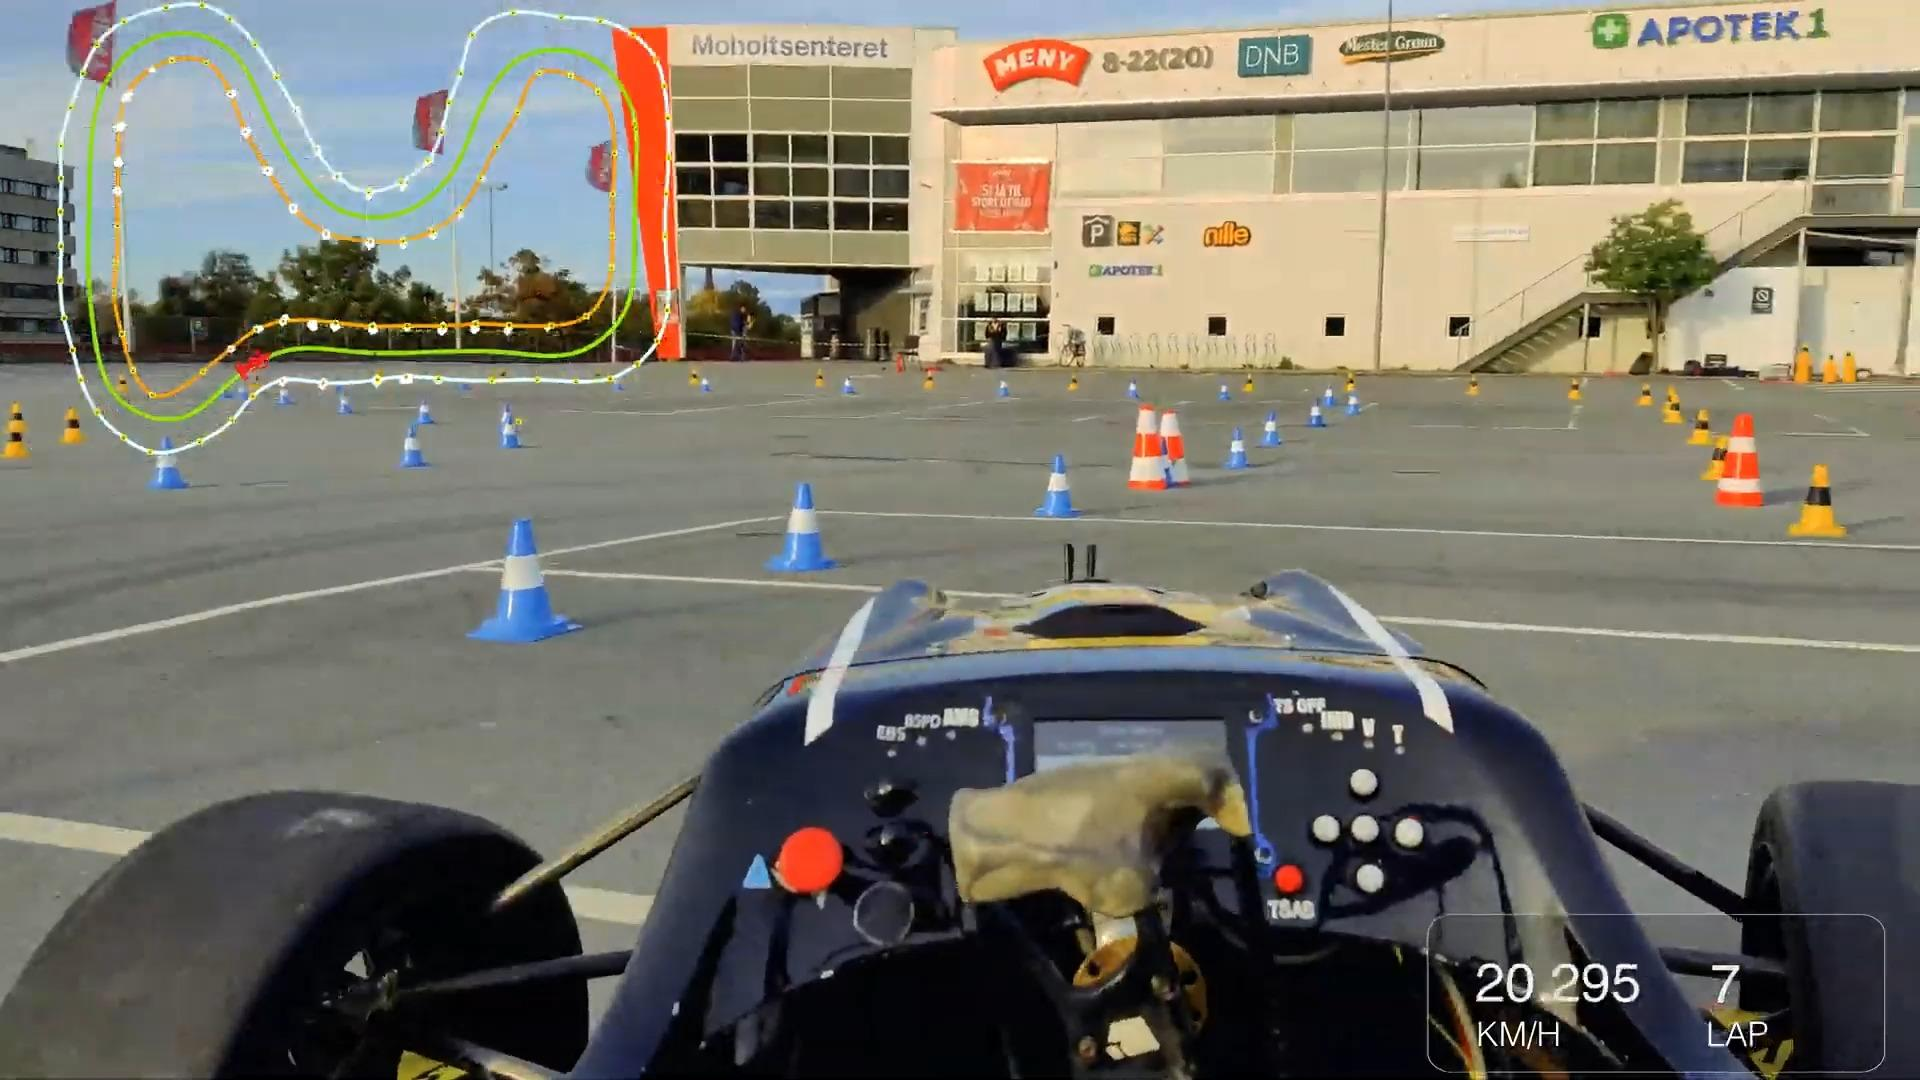blue_cone: (469, 517, 584, 642), (767, 482, 837, 575), (1037, 452, 1082, 517), (151, 435, 187, 492), (396, 425, 430, 465), (1222, 428, 1254, 467), (1259, 412, 1284, 445), (499, 417, 524, 448), (1307, 397, 1327, 427), (416, 395, 435, 425)
large_orange_cone: (1716, 413, 1765, 505), (1127, 407, 1167, 490), (1152, 408, 1192, 488)
yellow_cone: (1789, 463, 1848, 537), (1704, 435, 1742, 480), (0, 418, 29, 460), (1689, 410, 1713, 445), (4, 402, 27, 435), (62, 408, 84, 442), (1664, 393, 1687, 425)
